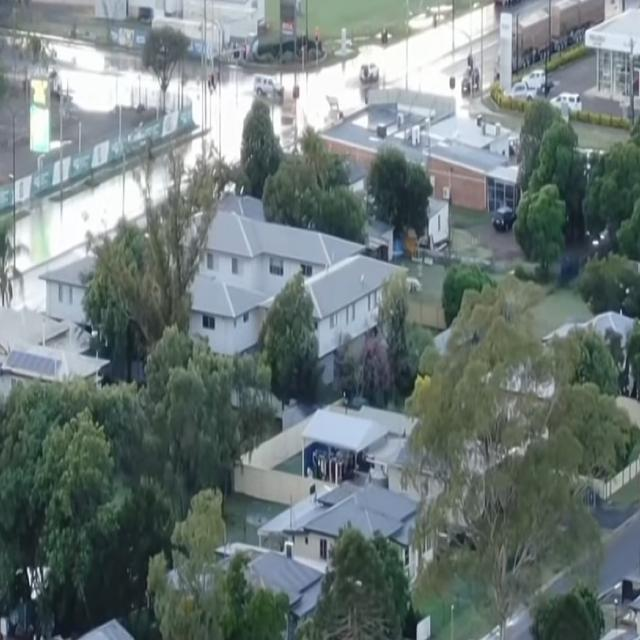flood: (271, 2, 500, 148), (12, 159, 169, 310), (167, 59, 254, 164), (55, 43, 159, 120)
house: (180, 198, 318, 372), (232, 402, 386, 506), (306, 248, 410, 386), (426, 120, 511, 218), (494, 1, 566, 99), (142, 0, 272, 54), (588, 8, 636, 127), (38, 256, 104, 328), (59, 617, 148, 640)
